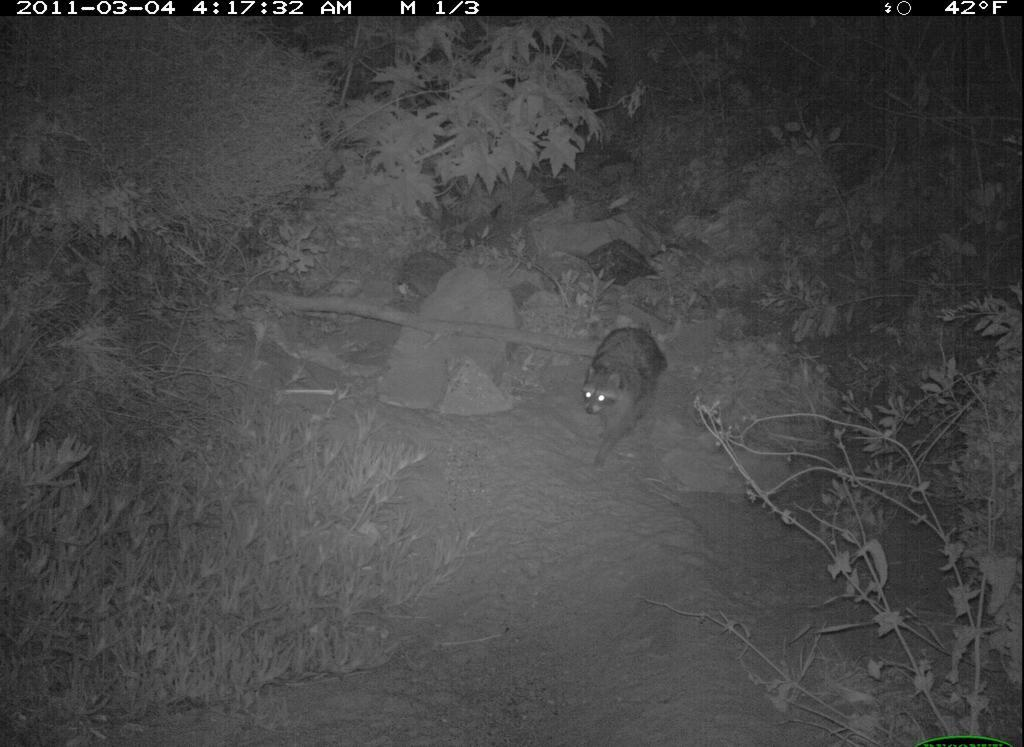raccoon: (579, 319, 673, 473)
